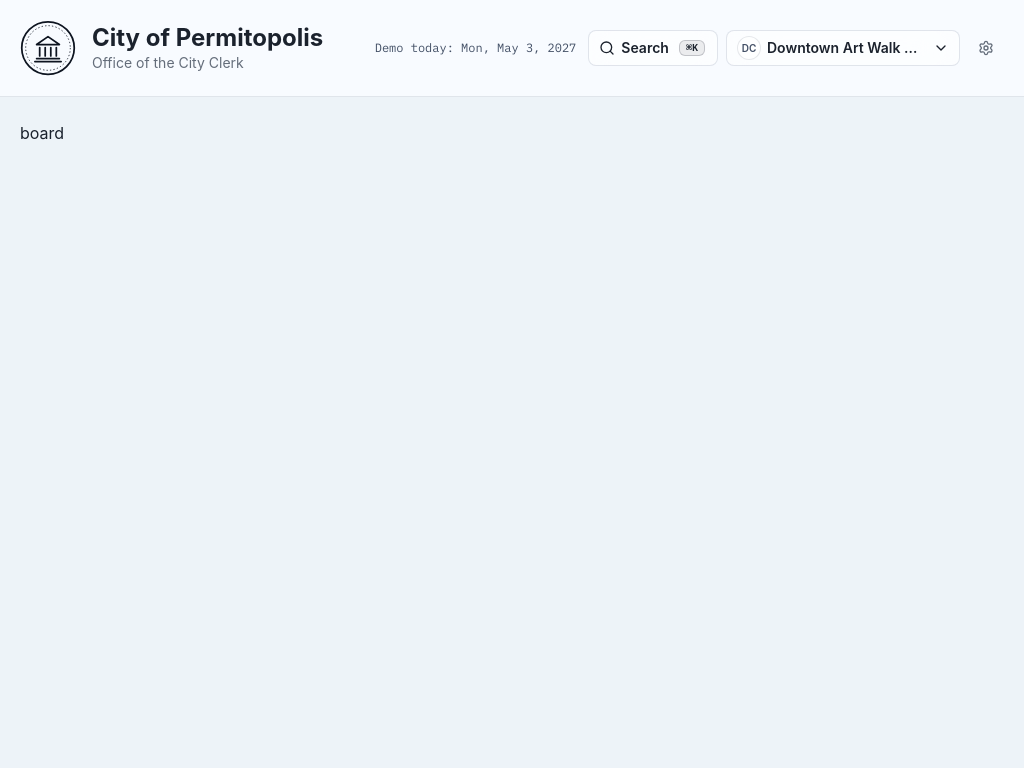
switching role › shows an applicant the menu does not offer, once their case has been followed
This screenshot has width=1024, height=768.
Click the button with aria-label "Switch user: Downtown Art Walk Committee": coordinates (843, 48) [726,30,960,66]
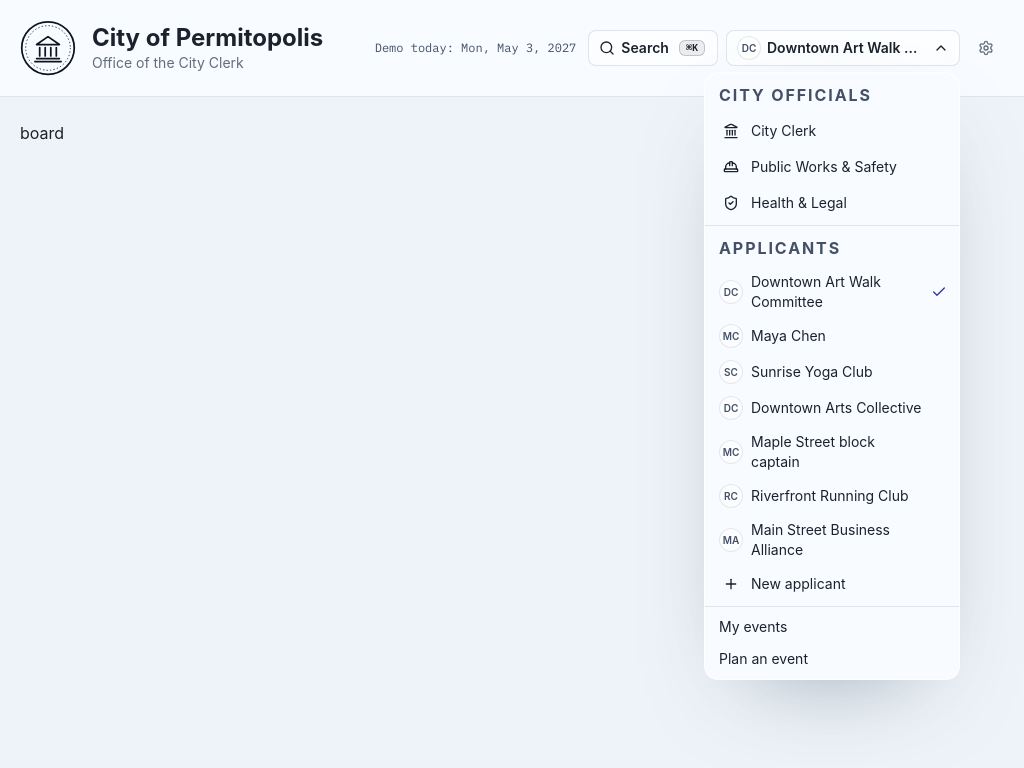
expect the menu item "DC Downtown Art Walk Committee" is checked: met, box [709,266,955,318]
